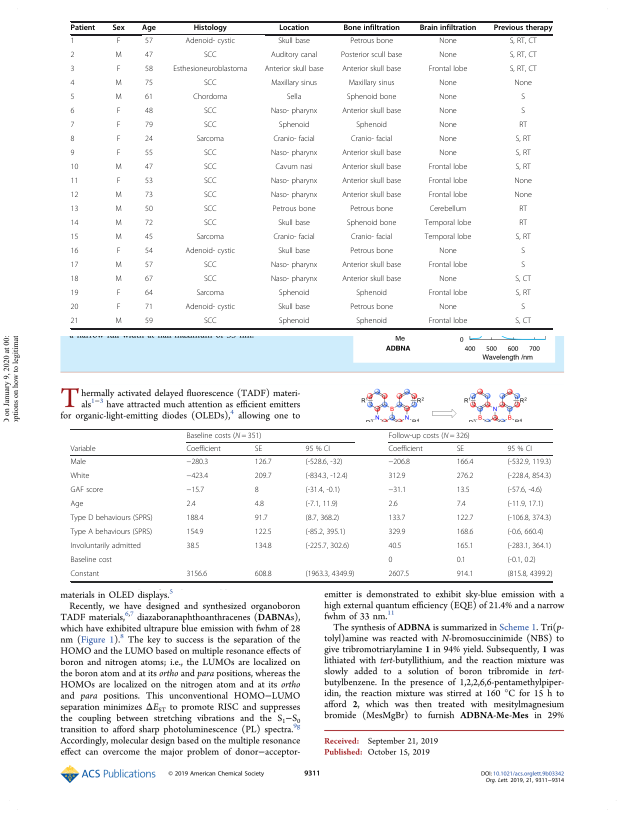borderless: (69, 20, 552, 328), (69, 427, 552, 581)
cell: (69, 513, 153, 523), (69, 527, 153, 537), (172, 65, 248, 75), (387, 431, 471, 440), (69, 541, 142, 551), (186, 431, 262, 440), (340, 51, 403, 61), (341, 65, 402, 75), (341, 107, 402, 117), (341, 149, 402, 159), (341, 163, 402, 173), (341, 177, 402, 187), (341, 191, 402, 201), (341, 261, 402, 271), (341, 275, 402, 285), (264, 65, 324, 75), (493, 24, 553, 33), (342, 24, 401, 33), (419, 24, 477, 33), (184, 37, 236, 47), (184, 247, 236, 257), (184, 303, 236, 313), (346, 93, 397, 103), (346, 219, 397, 229), (305, 569, 355, 579), (270, 51, 318, 61), (270, 79, 318, 89), (270, 107, 318, 117), (270, 149, 318, 159), (270, 177, 318, 187), (270, 191, 318, 201), (424, 219, 472, 229), (424, 233, 472, 243), (270, 261, 318, 271), (270, 275, 318, 285), (506, 569, 553, 579), (348, 79, 395, 89), (506, 457, 552, 467), (506, 471, 552, 481), (506, 513, 552, 523), (506, 541, 552, 551), (305, 541, 350, 551), (349, 37, 394, 47), (349, 205, 394, 215), (349, 247, 394, 257), (349, 303, 394, 313), (69, 555, 113, 565), (272, 135, 316, 145), (272, 205, 316, 215), (272, 233, 316, 243), (305, 471, 348, 481), (350, 135, 393, 145), (350, 233, 393, 243), (305, 527, 346, 537), (428, 65, 468, 75), (274, 163, 314, 173), (428, 163, 468, 173), (428, 177, 468, 187), (428, 191, 468, 201), (428, 261, 468, 271), (428, 289, 468, 299), (428, 317, 468, 327), (305, 457, 343, 467), (506, 499, 544, 509), (506, 527, 544, 537), (429, 205, 467, 215), (387, 444, 424, 454), (506, 485, 543, 495), (186, 444, 222, 454), (305, 485, 341, 495), (192, 93, 228, 103), (69, 485, 104, 495), (305, 513, 340, 523), (305, 499, 339, 509), (277, 37, 311, 47), (277, 219, 311, 229), (277, 247, 311, 257), (277, 303, 311, 313), (355, 121, 388, 131), (355, 289, 388, 299), (355, 317, 388, 327), (278, 121, 310, 131), (278, 289, 310, 299), (278, 317, 310, 327), (193, 24, 228, 33), (506, 555, 537, 565), (69, 569, 100, 579), (195, 135, 225, 145), (195, 233, 225, 243), (195, 289, 225, 299), (509, 37, 538, 47), (509, 51, 538, 61), (509, 65, 538, 75), (278, 24, 310, 33), (69, 444, 96, 454), (506, 444, 533, 454), (305, 444, 331, 454), (387, 457, 411, 467), (70, 24, 96, 33), (186, 457, 209, 467), (186, 471, 209, 481), (387, 569, 410, 579), (186, 569, 208, 579), (69, 471, 90, 481), (387, 485, 407, 495), (438, 37, 458, 47), (438, 51, 458, 61), (438, 79, 458, 89), (513, 79, 533, 89), (438, 93, 458, 103), (438, 107, 458, 117), (438, 121, 458, 131), (438, 135, 458, 145), (438, 149, 458, 159), (513, 177, 533, 187), (513, 191, 533, 201), (438, 247, 458, 257), (438, 275, 458, 285), (438, 303, 458, 313), (387, 471, 406, 481), (186, 485, 205, 495), (387, 513, 406, 523), (387, 527, 406, 537), (69, 457, 87, 467), (254, 457, 272, 467), (456, 457, 474, 467), (254, 471, 272, 481), (456, 471, 474, 481), (186, 513, 204, 523), (456, 513, 474, 523), (186, 527, 204, 537), (254, 527, 272, 537), (456, 527, 474, 537), (254, 541, 272, 551), (456, 541, 474, 551), (254, 569, 272, 579), (456, 569, 474, 579), (514, 275, 532, 285), (514, 317, 532, 327), (515, 135, 532, 145), (515, 149, 532, 159), (515, 163, 532, 173), (515, 233, 532, 243), (515, 289, 532, 299), (286, 93, 302, 103), (69, 499, 84, 509), (254, 513, 269, 523), (387, 541, 402, 551), (141, 24, 157, 33), (456, 485, 470, 495), (186, 541, 200, 551), (203, 51, 217, 61), (203, 79, 217, 89), (203, 107, 217, 117), (203, 121, 217, 131), (203, 149, 217, 159), (203, 163, 217, 173), (203, 177, 217, 187), (203, 191, 217, 201), (203, 205, 217, 215), (203, 219, 217, 229), (203, 261, 217, 271), (203, 275, 217, 285), (203, 317, 217, 327), (111, 24, 126, 33), (186, 499, 197, 509), (254, 499, 265, 509), (387, 499, 398, 509), (456, 499, 467, 509), (456, 555, 467, 565), (144, 37, 154, 47), (144, 51, 154, 61), (144, 65, 154, 75), (144, 79, 154, 89), (144, 93, 154, 103), (144, 107, 154, 117), (144, 121, 154, 131), (518, 121, 528, 131), (144, 135, 154, 145), (144, 149, 154, 159), (144, 163, 154, 173), (144, 177, 154, 187), (144, 191, 154, 201), (144, 205, 154, 215), (518, 205, 528, 215), (144, 219, 154, 229), (518, 219, 528, 229), (144, 233, 154, 243), (144, 247, 154, 257), (144, 261, 154, 271), (144, 275, 154, 285), (144, 289, 154, 299), (144, 303, 154, 313), (144, 317, 154, 327), (254, 444, 263, 454), (456, 444, 465, 454), (114, 51, 123, 61), (114, 79, 123, 89), (114, 93, 123, 103), (70, 163, 79, 173), (114, 163, 123, 173), (70, 177, 79, 187), (70, 191, 79, 201), (114, 191, 123, 201), (70, 205, 79, 215), (114, 205, 123, 215), (70, 219, 79, 229), (114, 219, 123, 229), (70, 233, 79, 243), (114, 233, 123, 243), (70, 247, 79, 257), (70, 261, 79, 271), (114, 261, 123, 271), (70, 275, 79, 285), (114, 275, 123, 285), (70, 289, 79, 299), (70, 303, 79, 313), (70, 317, 79, 327), (114, 317, 123, 327), (254, 485, 260, 495), (387, 555, 393, 565), (520, 93, 526, 103), (520, 107, 526, 117), (520, 247, 526, 257), (520, 261, 526, 271), (520, 303, 526, 313), (70, 37, 75, 47), (116, 37, 121, 47), (70, 51, 75, 61), (70, 65, 75, 75), (116, 65, 121, 75), (70, 79, 75, 89), (70, 93, 75, 103), (70, 107, 75, 117), (116, 107, 121, 117), (70, 121, 75, 131), (116, 121, 121, 131), (70, 135, 75, 145), (116, 135, 121, 145), (70, 149, 75, 159), (116, 149, 121, 159), (116, 177, 121, 187), (116, 247, 121, 257), (116, 289, 121, 299), (116, 303, 121, 313)
